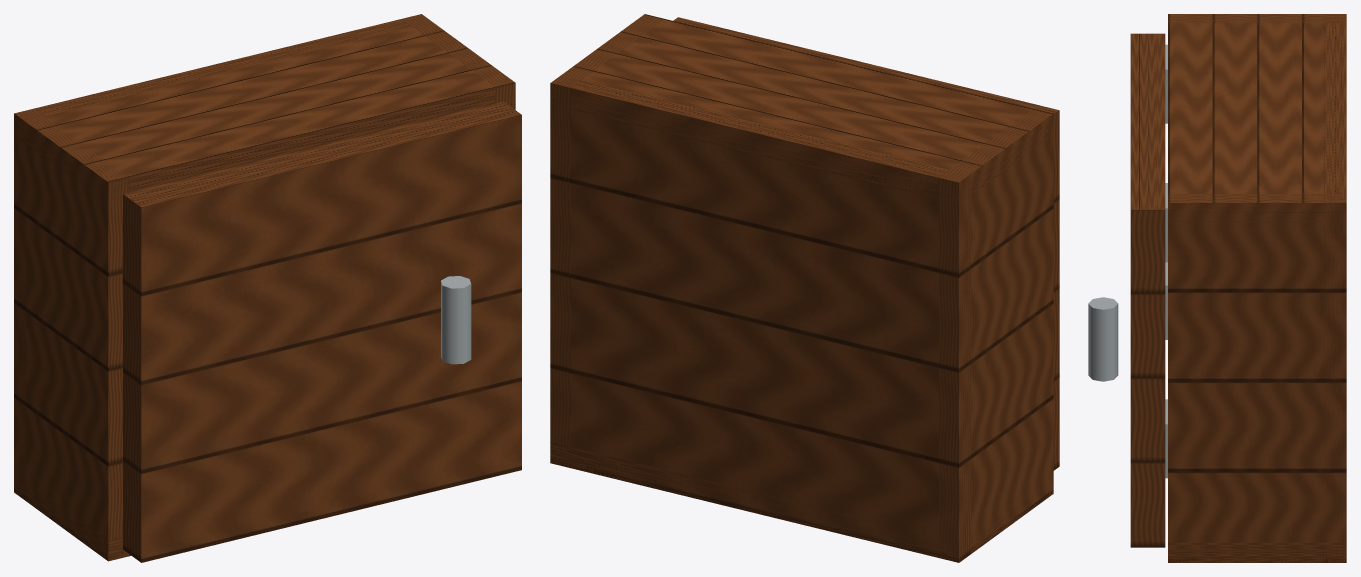
The model's file is suburban-outbreak-interiors-bathroom-cistern-60df9111__19992.glb.
3 views of the same model, side by side, from view 1: azimuth 30°, elevation 25°; view 2: azimuth 150°, elevation 25°; view 3: azimuth 270°, elevation 25° (orthographic). The views are drawn at different scales.
Parts seen in each view (by area): view 1: cabinet-door-0/wood, bathroom-cistern; view 2: bathroom-cistern, cabinet-door-0/wood; view 3: bathroom-cistern, cabinet-door-0/wood.
Part boxes in pixels (bbox=[...]): cabinet-door-0/wood: bbox=[123, 101, 521, 562]; bathroom-cistern: bbox=[14, 14, 515, 561]; bathroom-cistern: bbox=[550, 14, 1053, 562]; cabinet-door-0/wood: bbox=[673, 17, 1059, 470]; bathroom-cistern: bbox=[1088, 14, 1346, 562]; cabinet-door-0/wood: bbox=[1130, 33, 1165, 547].
Size of the model in its own units: 0.45 by 0.4 by 0.26.
2 materials, 1 textured.
